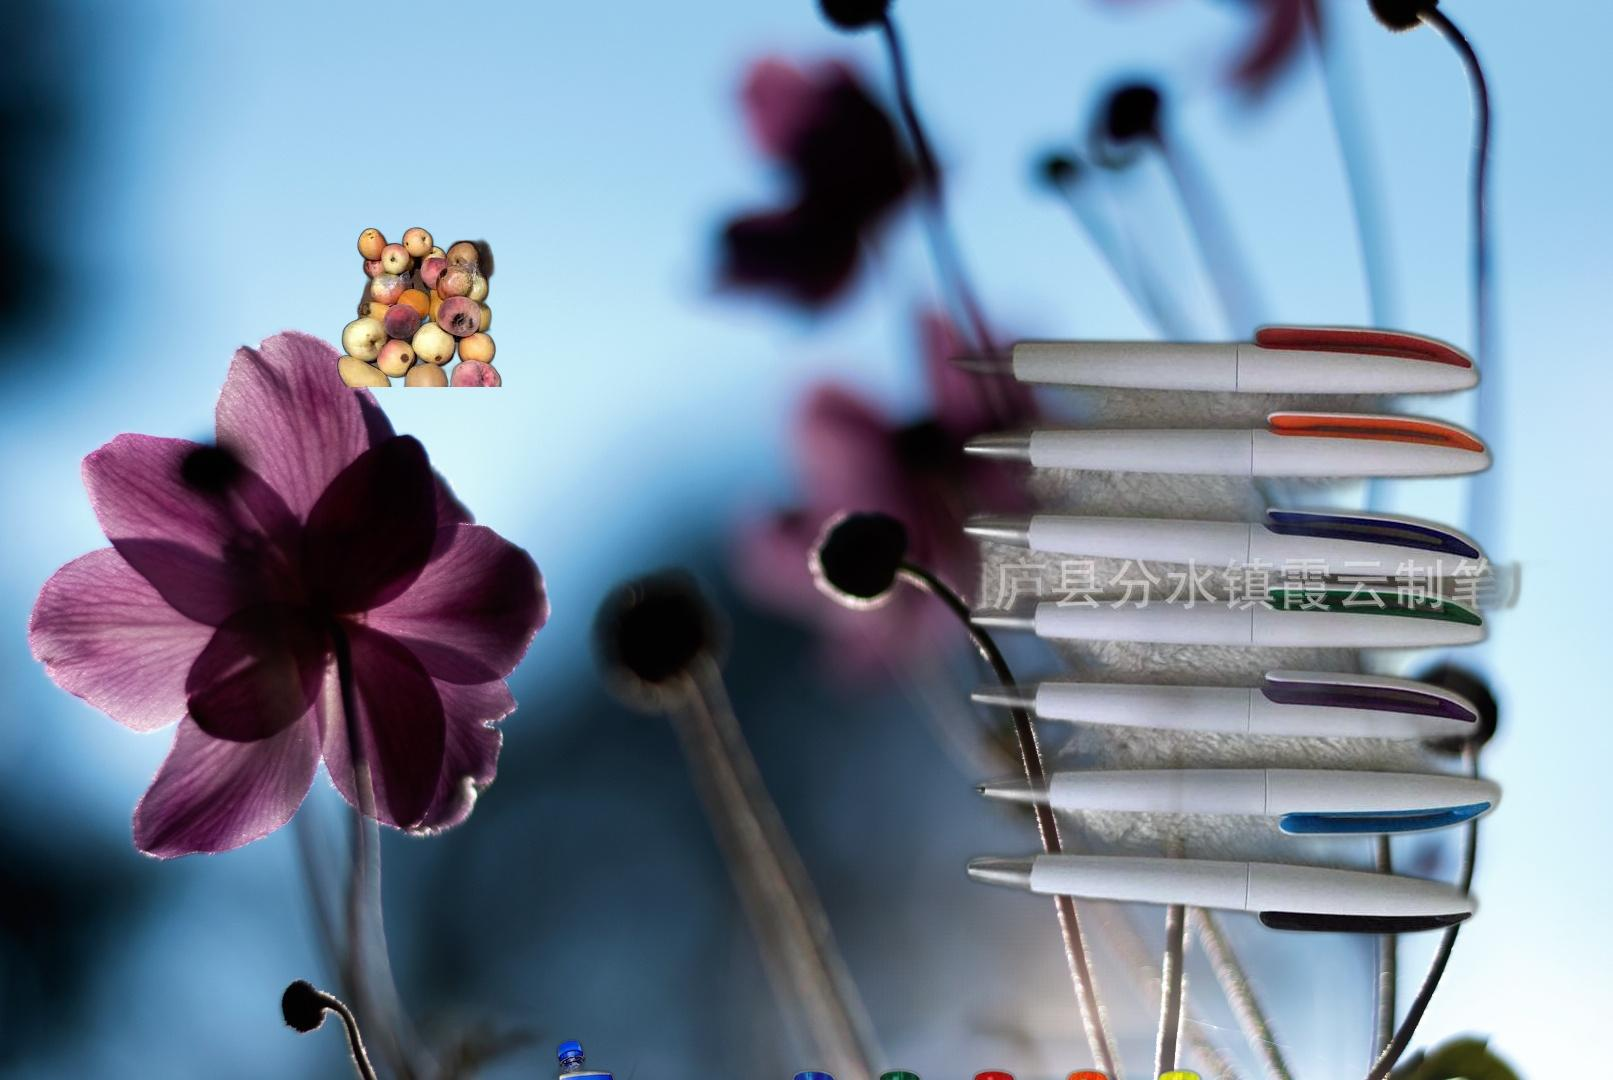biological: (336, 225, 504, 387)
penholder: (928, 316, 1613, 1076), (774, 1066, 1213, 1080)
plastic-bottles: (540, 1034, 653, 1080)
